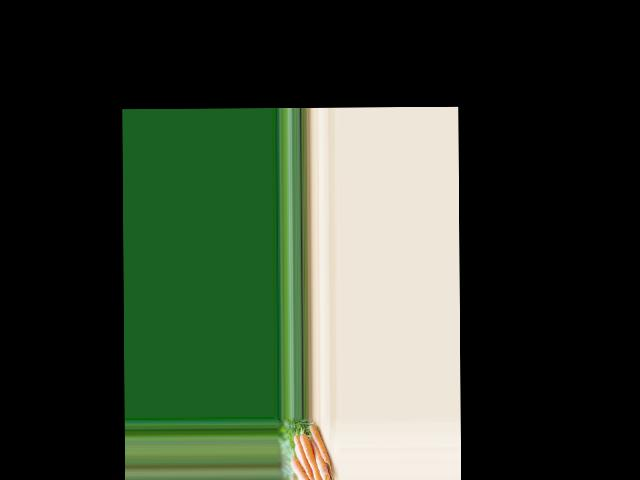carrot: (311, 422, 337, 468)
